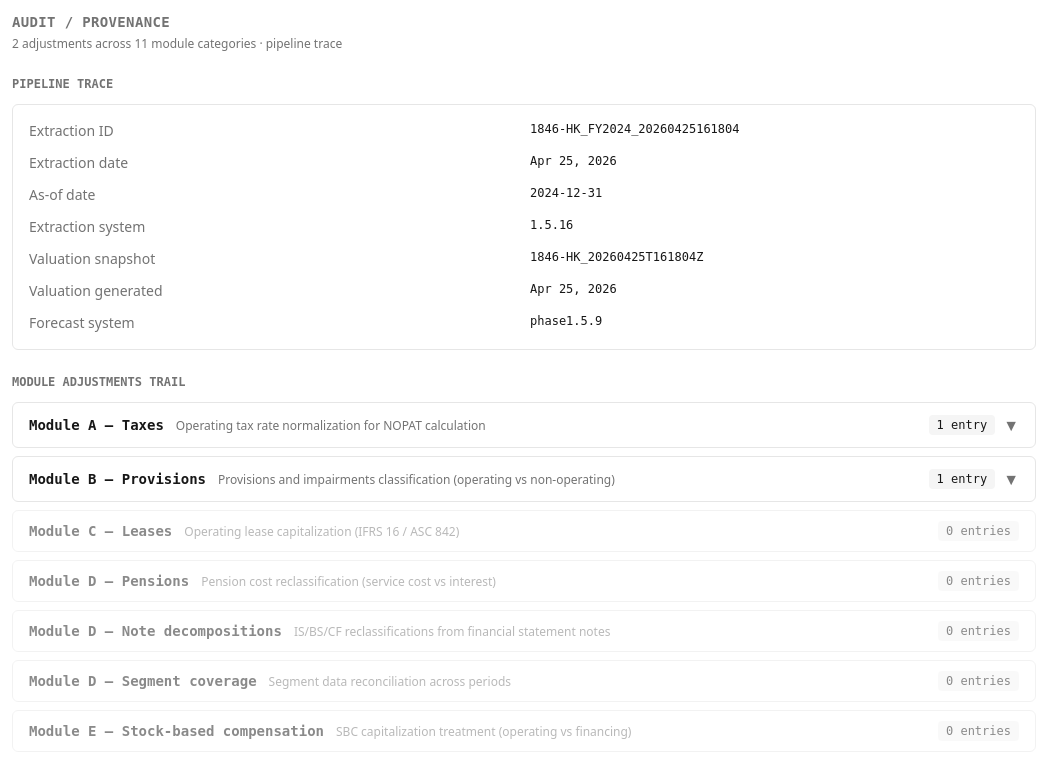
AuditProvenance (Sprint 1C) › expands Module A on click and shows the adjustment
Click the text "Module A — Taxes": click(96, 425) left=29, top=415, right=164, bottom=435
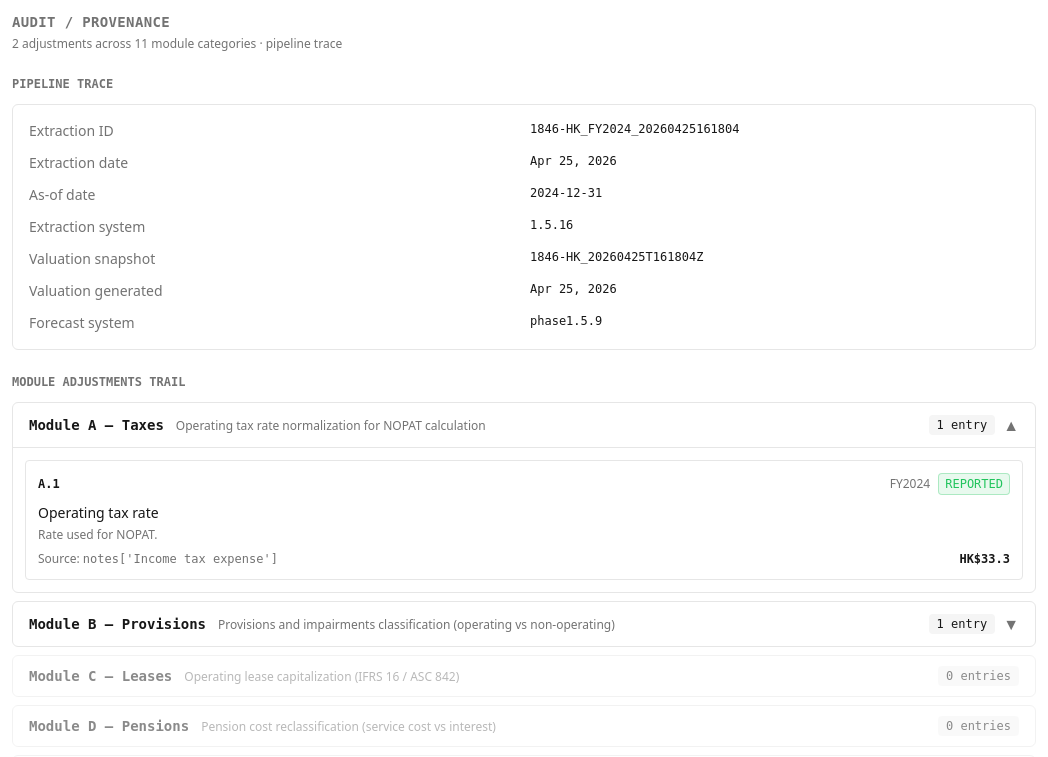
Result: the text "A.1" is shown at left=38, top=476, right=60, bottom=492
Result: the text "Operating tax rate" is shown at left=38, top=503, right=159, bottom=522
